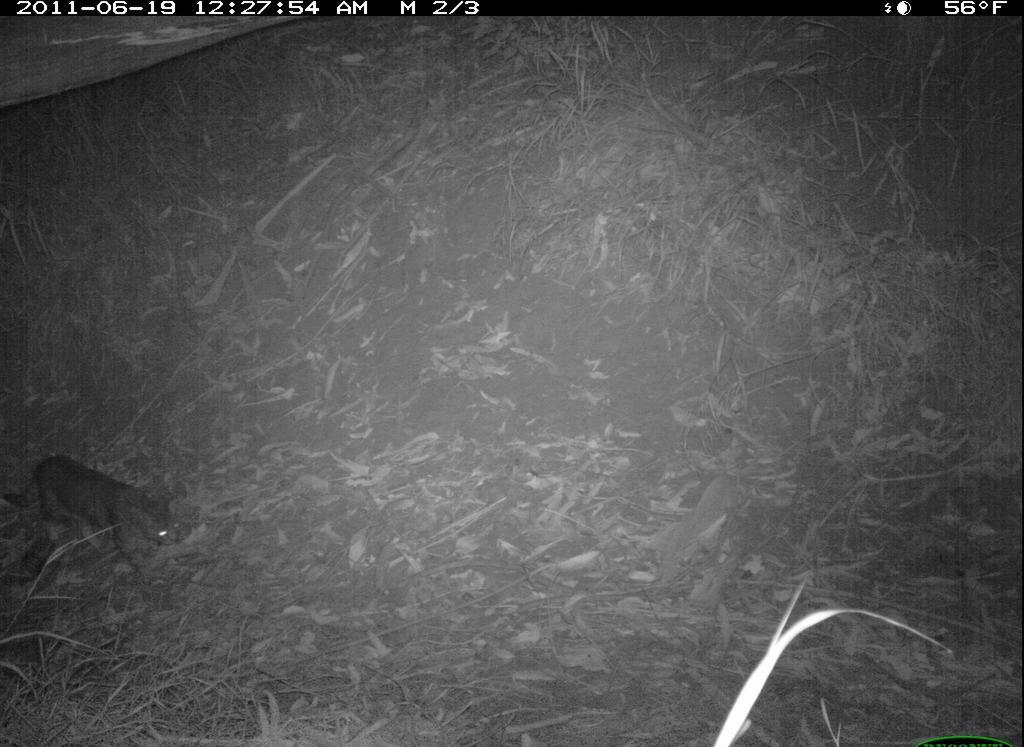cat: (3, 436, 190, 578)
